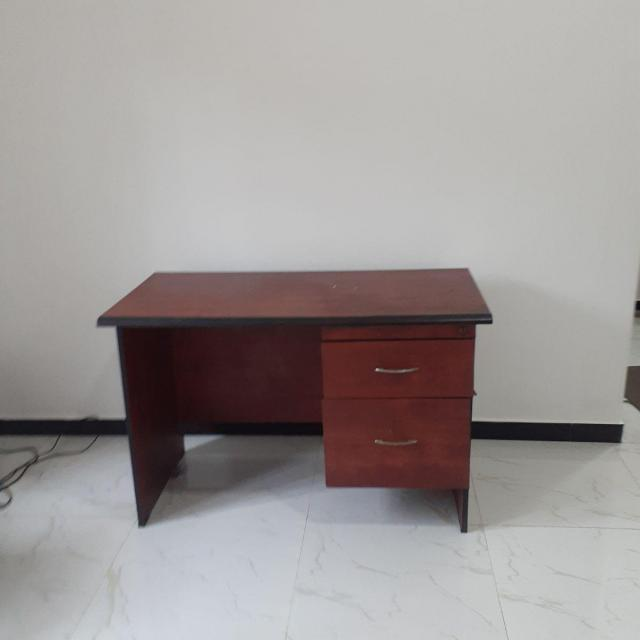mobile-phone: (99, 264, 495, 530)
